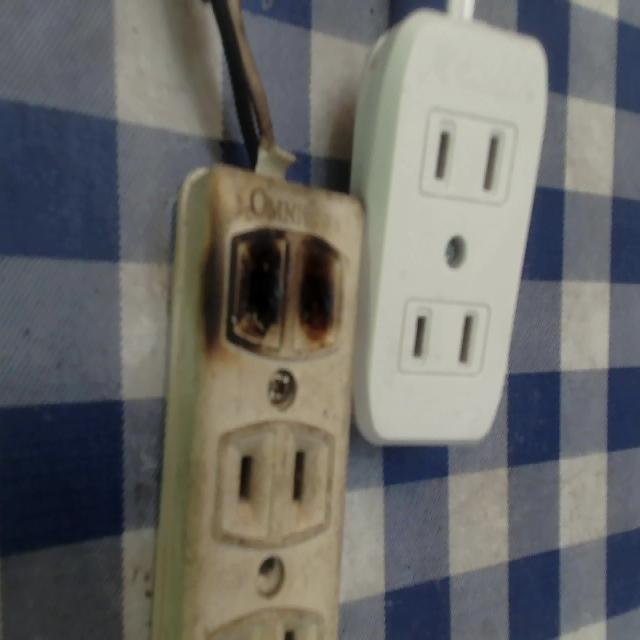-: (202, 210, 348, 366)
